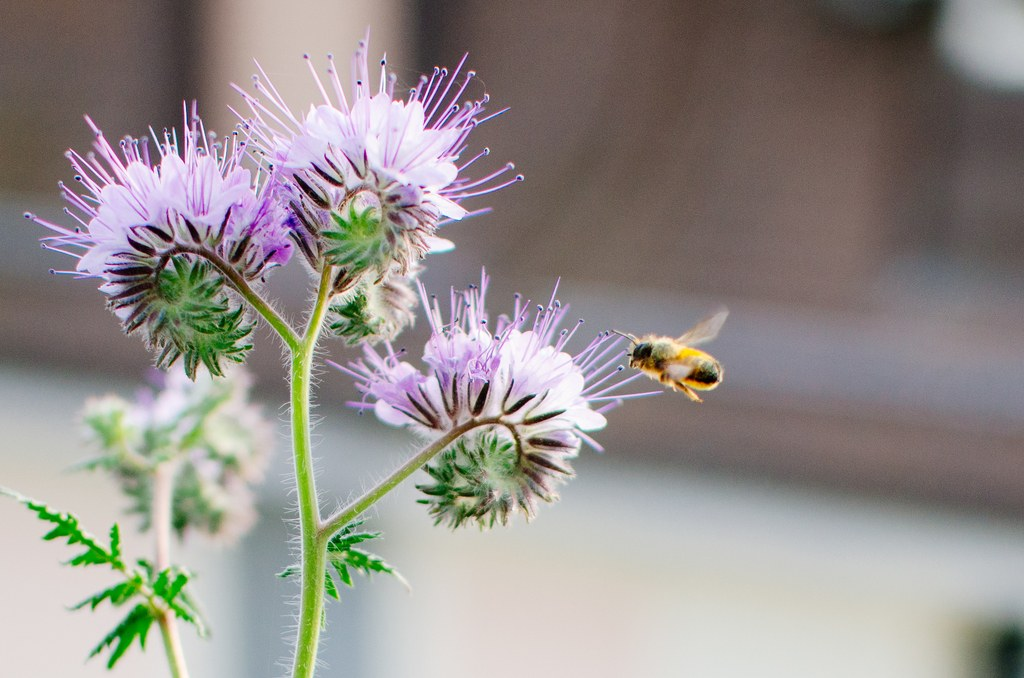bee: (615, 302, 732, 400)
